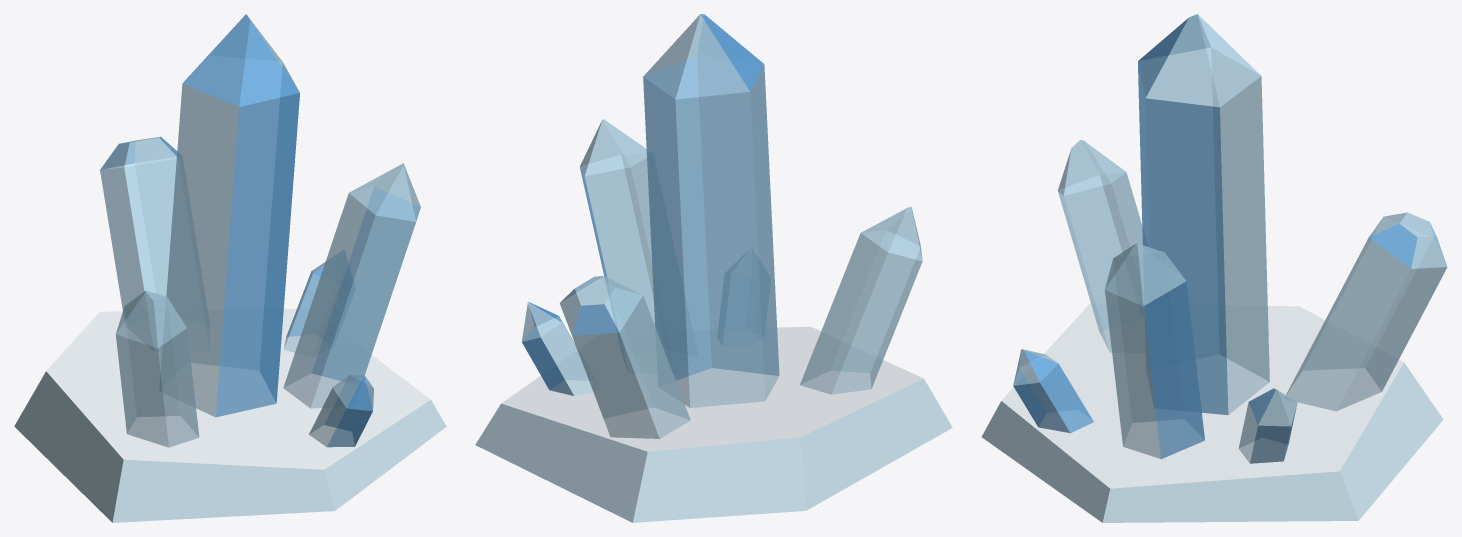
The model's file is hielo2.obj.
3 renders of one model, left to right at view 1: azimuth 30°, elevation 25°; view 2: azimuth 150°, elevation 25°; view 3: azimuth 270°, elevation 25°, orthographic. The views are drawn at different scales.
Visible parts, largest first — view 1: hielo_lp_cluster; view 2: hielo_lp_cluster; view 3: hielo_lp_cluster.
Boxes of the visible parts, x1,y1,x2,y2 form: hielo_lp_cluster: (14,14,446,522); hielo_lp_cluster: (475,14,952,522); hielo_lp_cluster: (981,14,1447,522).
Bounding box in the file's own units: 6.73 × 7.67 × 7.51.
